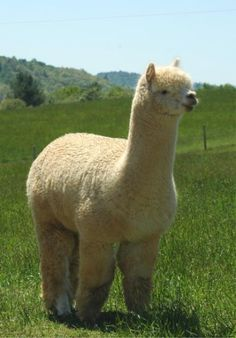alpaca: (25, 58, 198, 319)
